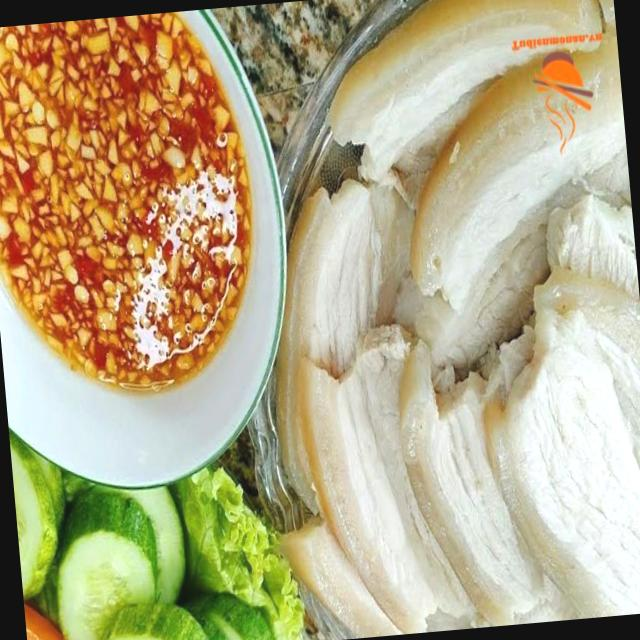dua leo: (50, 488, 275, 640), (9, 432, 63, 599)
nuoc mam: (0, 13, 251, 389)
thit luoc: (277, 0, 640, 638)
